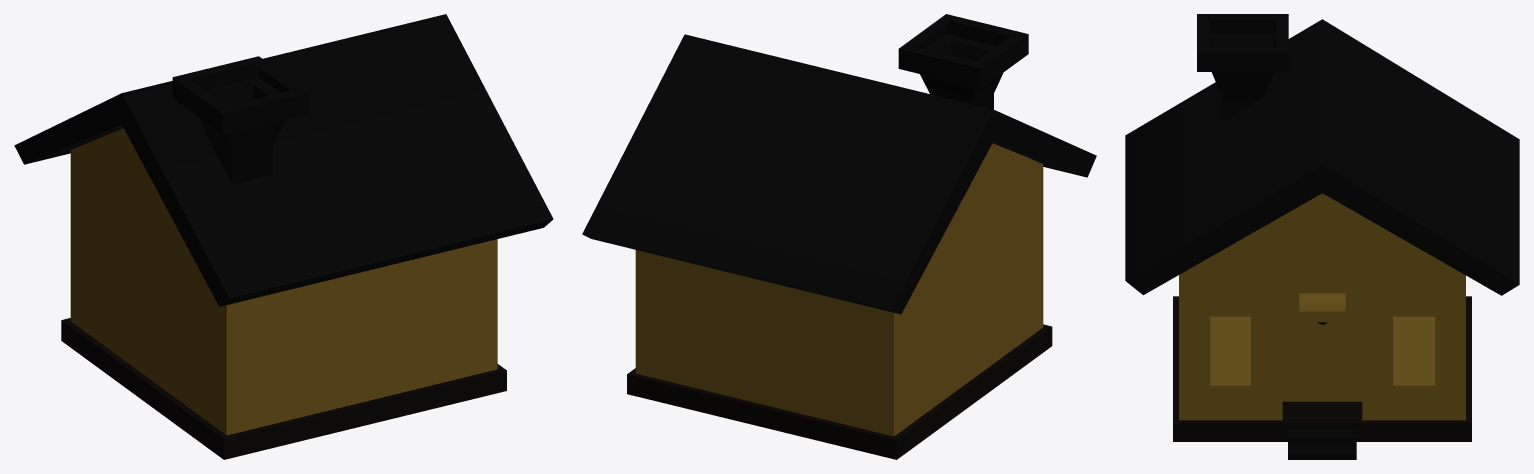
The model's file is house1.obj.
The picture shows the model from 3 angles, left to right: view 1: azimuth 30°, elevation 25°; view 2: azimuth 150°, elevation 25°; view 3: azimuth 270°, elevation 25°; orthographic projection. The views are drawn at different scales.
Visible parts, largest first — view 1: pCube6 polySurface2, polySurface1 pCube6, pCube3, pCube7; view 2: pCube6 polySurface2, polySurface1 pCube6, pCube3, pCube7; view 3: pCube6 polySurface2, polySurface1 pCube6, pCube3, pCube7, pCube8, pCube4, pCube5.
Boxes of the visible parts, x1=… form: pCube6 polySurface2: x1=14, y1=14, x2=553, y2=306; polySurface1 pCube6: x1=70, y1=128, x2=497, y2=435; pCube3: x1=61, y1=318, x2=506, y2=459; pCube7: x1=172, y1=56, x2=308, y2=184; pCube6 polySurface2: x1=582, y1=34, x2=1096, y2=314; polySurface1 pCube6: x1=635, y1=143, x2=1043, y2=436; pCube3: x1=627, y1=324, x2=1052, y2=459; pCube7: x1=898, y1=14, x2=1028, y2=109; pCube6 polySurface2: x1=1125, y1=19, x2=1519, y2=295; polySurface1 pCube6: x1=1179, y1=193, x2=1465, y2=420; pCube3: x1=1173, y1=296, x2=1471, y2=441; pCube7: x1=1197, y1=14, x2=1288, y2=121; pCube8: x1=1299, y1=293, x2=1345, y2=322; pCube4: x1=1288, y1=428, x2=1356, y2=445; pCube5: x1=1288, y1=445, x2=1356, y2=459.
Bounding box in the file's own units: 14.56 × 13.51 × 15.73.
